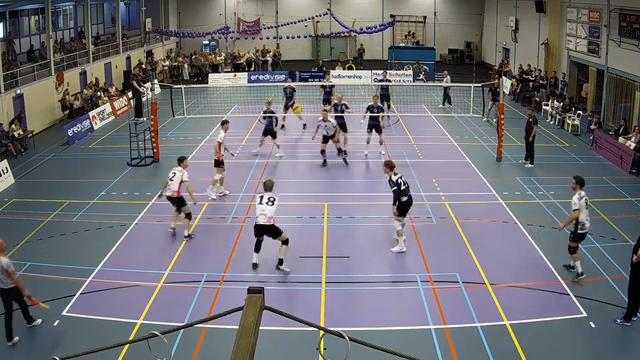ricezione: (248, 178, 292, 275)
